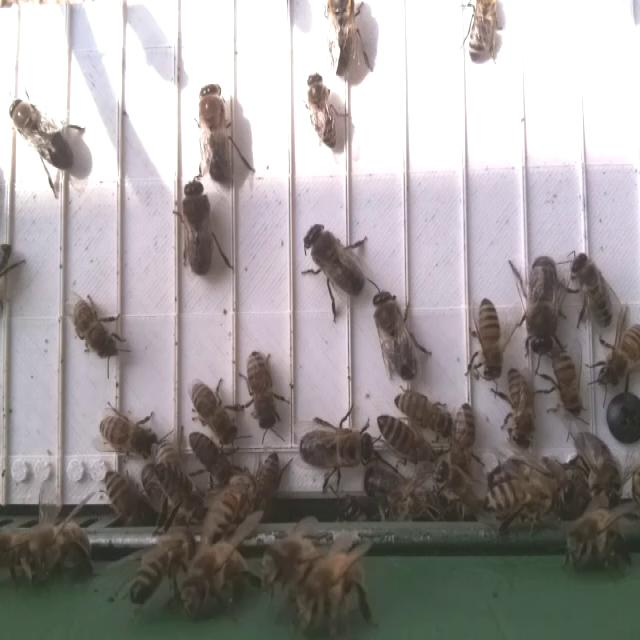Drone: (6, 94, 76, 176), (302, 219, 370, 301), (370, 286, 423, 388), (296, 419, 379, 475), (196, 76, 236, 190), (522, 250, 561, 360), (180, 176, 215, 282)
Worker: (68, 291, 119, 365), (97, 408, 162, 459), (242, 344, 279, 433), (474, 291, 505, 393), (190, 379, 240, 442), (549, 340, 588, 420), (303, 70, 338, 154), (377, 411, 428, 468), (393, 387, 453, 435), (505, 364, 536, 455), (448, 399, 482, 481), (596, 322, 640, 384)
